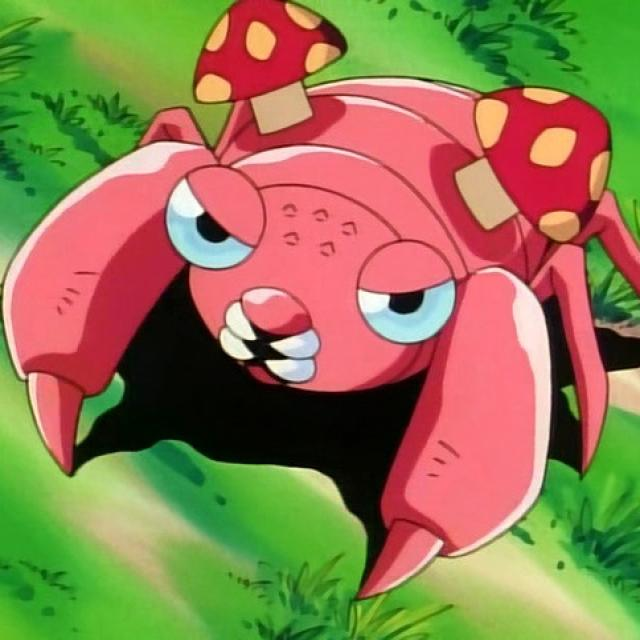Paras: (17, 0, 624, 549)
